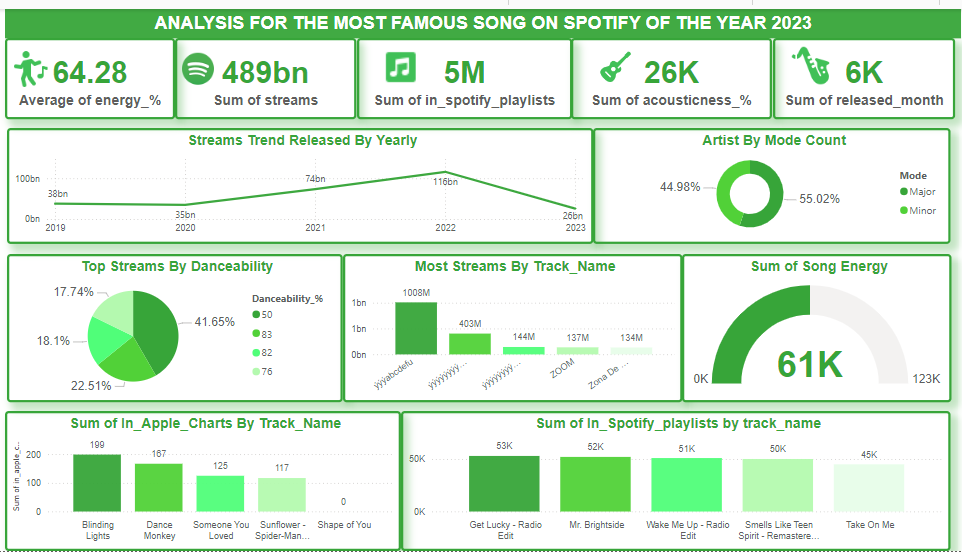

The page's visual inventory and layout, read from the dashboard file:
{"tool":"powerbi","page":{"name":"Page 1","canvas":[1280,720],"ordinal":0},"visuals":[{"type":"textbox","box":[9.7,0,1270.3,38.8],"z":0},{"type":"lineChart","title":"Streams Trend Released By Yearly","fields":{"Y":["Sum(spotify-2023.streams)"],"Category":["spotify-2023.released_year"]},"box":[11.8,157.9,778.9,153.9],"z":1000},{"type":"clusteredColumnChart","title":"Sum of In_Spotify_playlists by track_name","fields":{"Y":["Sum(spotify-2023.in_spotify_playlists)"],"Category":["spotify-2023.track_name"]},"box":[535.5,534.2,730.3,185.5],"z":2000},{"type":"clusteredColumnChart","title":"Sum of In_Apple_Charts By Track_Name","fields":{"Category":["spotify-2023.track_name"],"Y":["Sum(spotify-2023.in_apple_charts)"]},"box":[9.2,534.2,526.3,185.5],"z":3000},{"type":"pieChart","title":"Top Streams By Danceability","fields":{"Y":["Sum(spotify-2023.streams)"],"Category":["spotify-2023.danceability_%"]},"box":[11.8,325,446.1,197.4],"z":4000},{"type":"donutChart","title":"Artist By Mode Count","fields":{"Category":["spotify-2023.mode"],"Y":["Sum(spotify-2023.artist_count)"]},"box":[790.8,157.9,475,153.9],"z":5000},{"type":"columnChart","title":"Most Streams By Track_Name","fields":{"Category":["spotify-2023.track_name"],"Y":["Sum(spotify-2023.streams)"]},"box":[457.9,325,451.3,197.4],"z":6000},{"type":"gauge","title":"Sum of Song Energy","fields":{"Y":["Sum(spotify-2023.energy_%)"]},"box":[909.2,325,357.9,197.4],"z":7000},{"type":"card","fields":{"Values":["Avg(spotify-2023.energy_%)"]},"box":[9.2,38.2,226.3,107.9],"z":8000},{"type":"card","fields":{"Values":["Sum(spotify-2023.streams)"]},"box":[235.5,38.2,240.8,107.9],"z":9000},{"type":"card","fields":{"Values":["Sum(spotify-2023.in_spotify_playlists)"]},"box":[476.3,38.2,285.5,107.9],"z":10000},{"type":"card","fields":{"Values":["Sum(spotify-2023.acousticness_%)"]},"box":[761.8,38.2,267.1,107.9],"z":11000},{"type":"card","fields":{"Values":["Sum(spotify-2023.released_month)"]},"box":[1028.9,38.2,242.1,107.9],"z":12000},{"type":"image","box":[235.5,48.5,61,63.7],"z":13000},{"type":"image","box":[498.7,45.7,73.4,63.7],"z":14000},{"type":"image","box":[12.5,48.5,62.3,63.7],"z":14001},{"type":"image","box":[791,48.5,61,58.2],"z":14002},{"type":"image","box":[1050,45.7,59.6,61],"z":14003}]}

Visuals, with their boxes in screenshot pixels (x1, y1, x2, y2), scaled from the page's 1280x720 canvas onto the 962x552 screenshot:
textbox: pyautogui.locateOnScreen(7, 0, 961, 30)
"Streams Trend Released By Yearly" lineChart: pyautogui.locateOnScreen(9, 121, 594, 239)
"Sum of In_Spotify_playlists by track_name" clusteredColumnChart: pyautogui.locateOnScreen(402, 410, 951, 551)
"Sum of In_Apple_Charts By Track_Name" clusteredColumnChart: pyautogui.locateOnScreen(7, 410, 402, 551)
"Top Streams By Danceability" pieChart: pyautogui.locateOnScreen(9, 249, 344, 401)
"Artist By Mode Count" donutChart: pyautogui.locateOnScreen(594, 121, 951, 239)
"Most Streams By Track_Name" columnChart: pyautogui.locateOnScreen(344, 249, 683, 401)
"Sum of Song Energy" gauge: pyautogui.locateOnScreen(683, 249, 952, 401)
card - Avg(spotify-2023.energy_%): pyautogui.locateOnScreen(7, 29, 177, 112)
card - Sum(spotify-2023.streams): pyautogui.locateOnScreen(177, 29, 358, 112)
card - Sum(spotify-2023.in_spotify_playlists): pyautogui.locateOnScreen(358, 29, 573, 112)
card - Sum(spotify-2023.acousticness_%): pyautogui.locateOnScreen(573, 29, 773, 112)
card - Sum(spotify-2023.released_month): pyautogui.locateOnScreen(773, 29, 955, 112)
image: pyautogui.locateOnScreen(177, 37, 223, 86)
image: pyautogui.locateOnScreen(375, 35, 430, 84)
image: pyautogui.locateOnScreen(9, 37, 56, 86)
image: pyautogui.locateOnScreen(594, 37, 640, 82)
image: pyautogui.locateOnScreen(789, 35, 834, 82)
